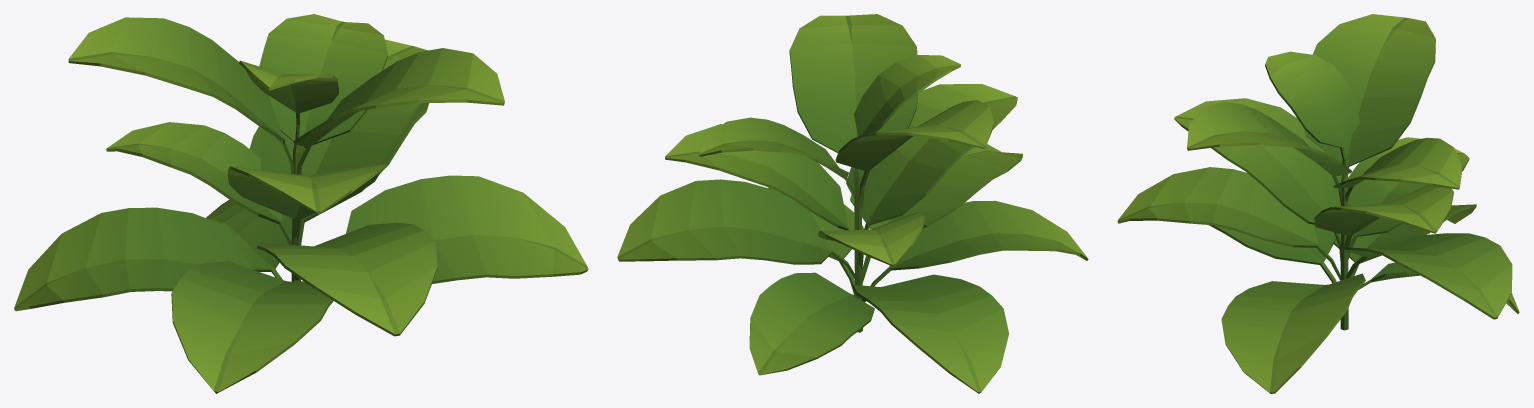
Rendered from Plant_02.fbx.
3 renders of one model, left to right at view 1: azimuth 30°, elevation 25°; view 2: azimuth 150°, elevation 25°; view 3: azimuth 270°, elevation 25°, orthographic. The views are drawn at different scales.
Parts seen in each view (by area): view 1: Plant_02; view 2: Plant_02; view 3: Plant_02.
Boxes of the visible parts, left/top/right/bottom form: Plant_02: left=14, top=14, right=588, bottom=393; Plant_02: left=617, top=14, right=1088, bottom=393; Plant_02: left=1117, top=14, right=1519, bottom=393.
Bounding box in the file's own units: 0.8695 × 0.5467 × 0.807.
